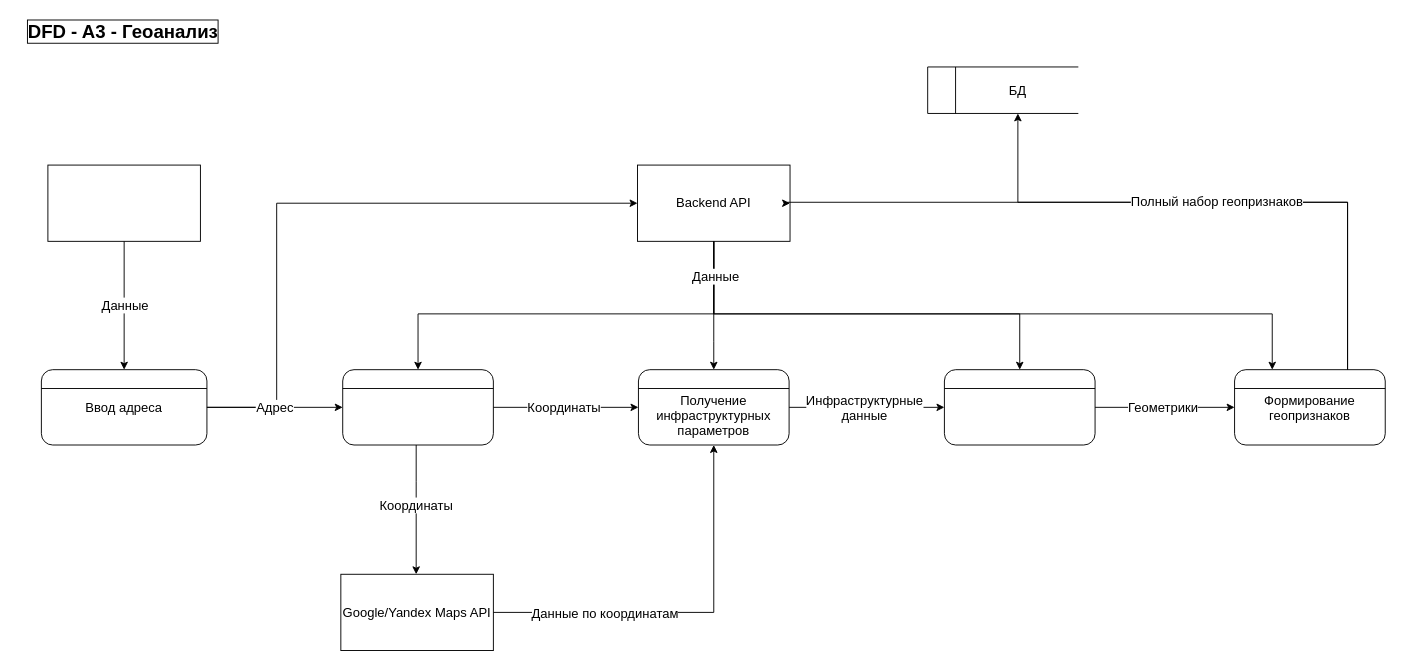
This 1402x667 diagram has some shape labels left out. Here are the shapes that lost their labels. From the top down, the box of each, then its label:
(47, 164, 200, 241): Пользователь
(342, 369, 493, 445): Геокодирование
(943, 369, 1095, 445): Расчёт геометрик
